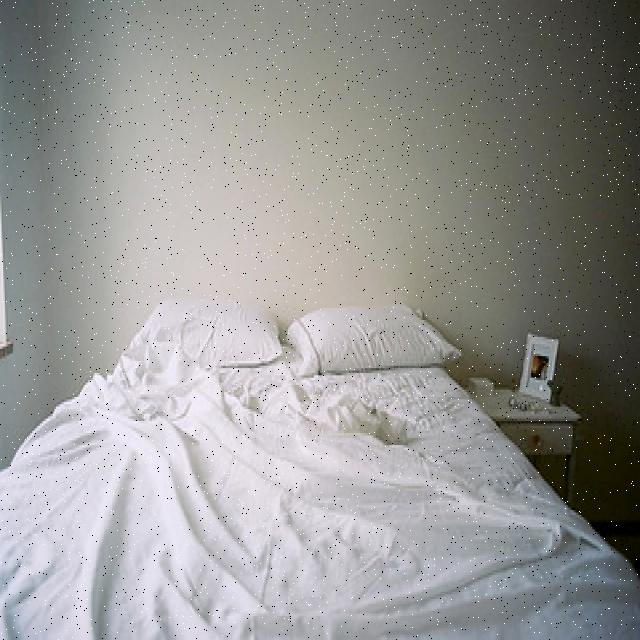bed: (0, 293, 635, 640)
